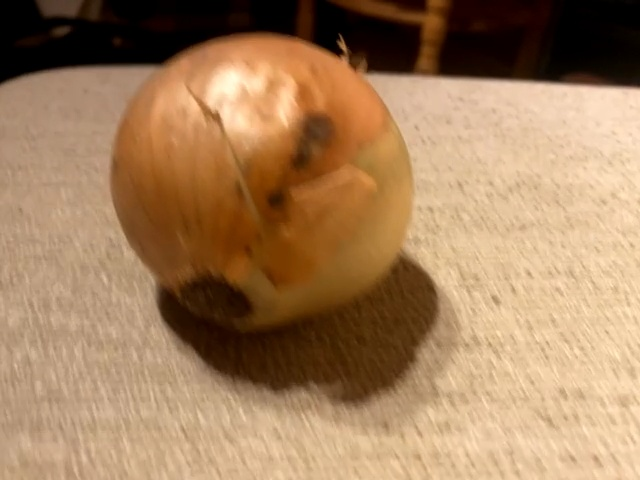onion: (111, 30, 418, 334)
